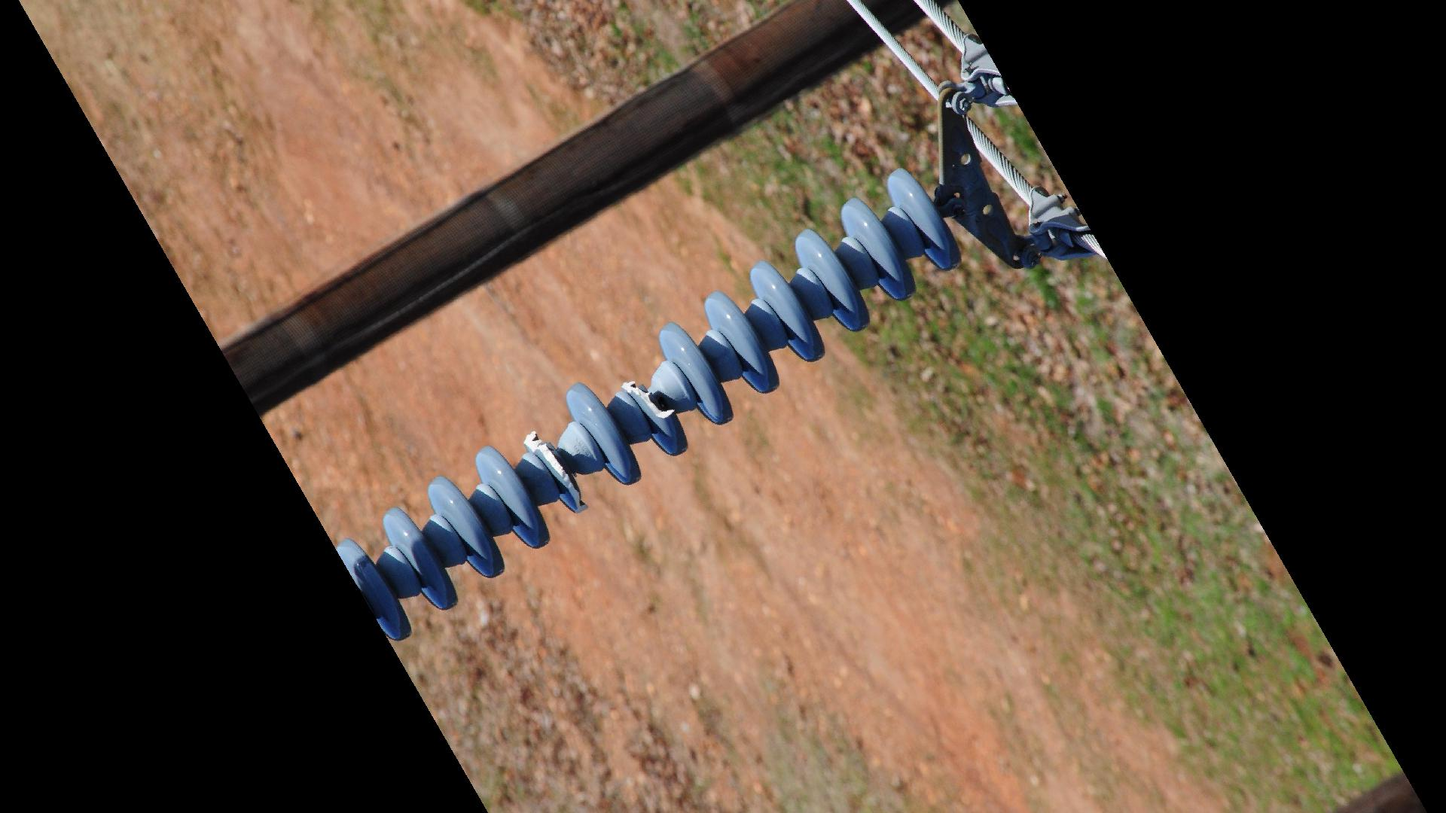insulator: (331, 161, 966, 644)
insulator_breakage: (518, 425, 590, 517), (615, 376, 679, 425)
